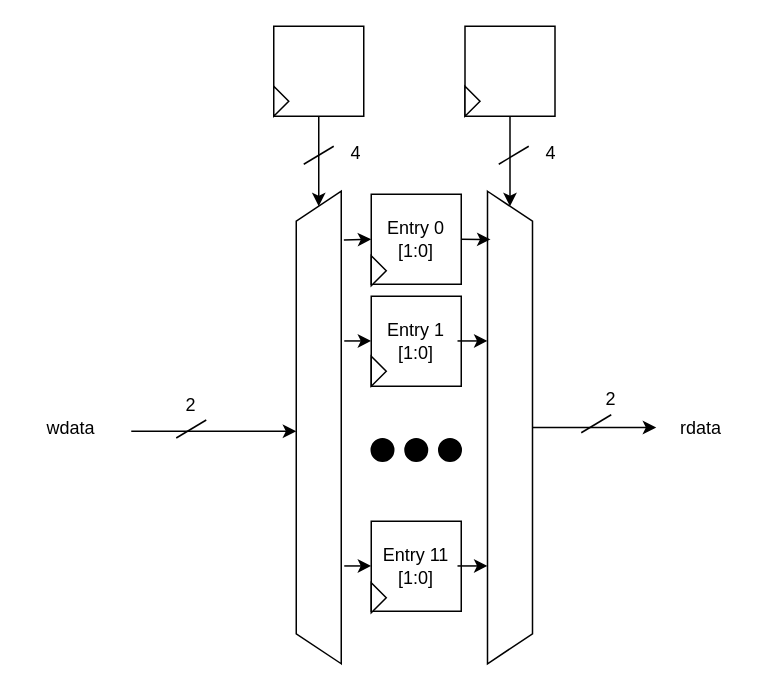
Some shapes in this 771 by 690 pixel diagram are drawn without their labels. Here are the shapes that lost their labels. From the top down, the box of each, then its label:
(272, 25, 364, 116): write_ptr [4:0]
(464, 25, 555, 116): read_ptr [4:0]
